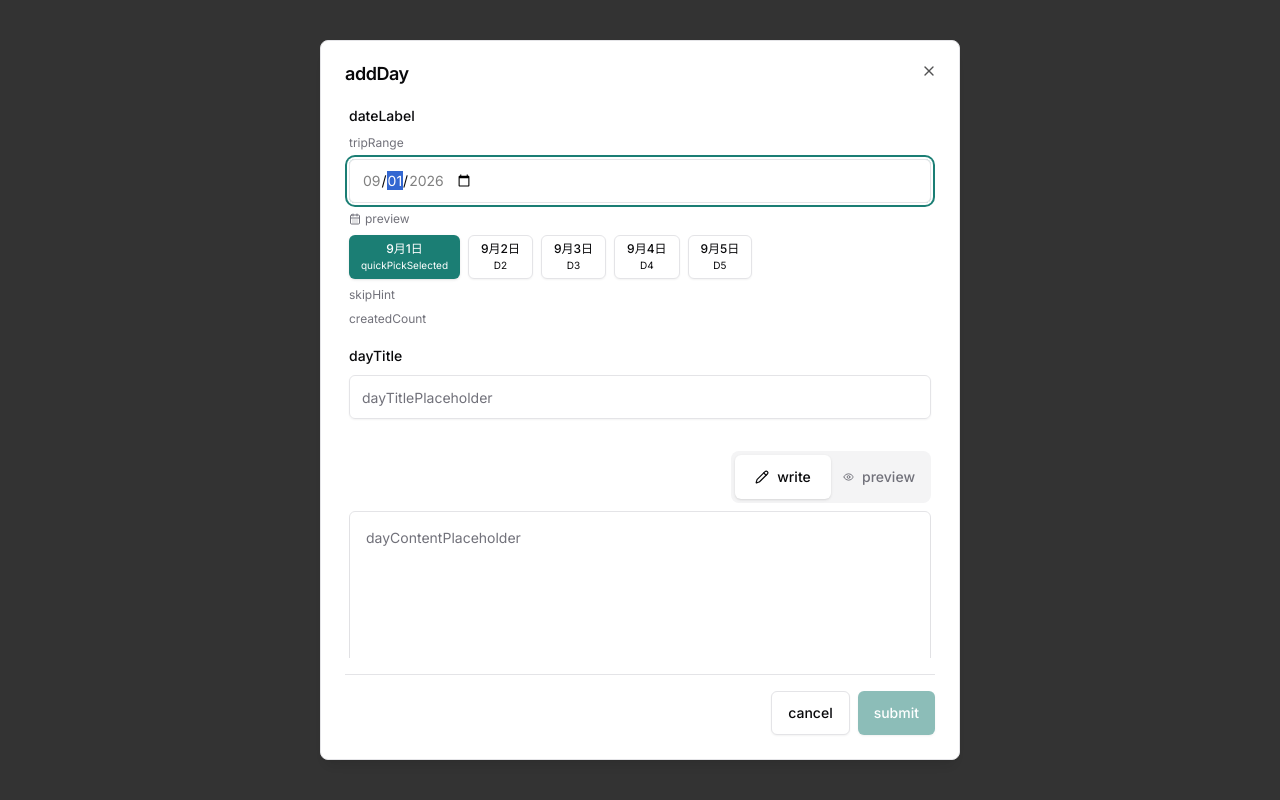
Test: keeps the draft and shows the server error in the date field when the date is taken
Type "Kyoto" into the field labelled "dayTitle" at [640, 397], box top-left (349, 375), bottom-right (931, 419)
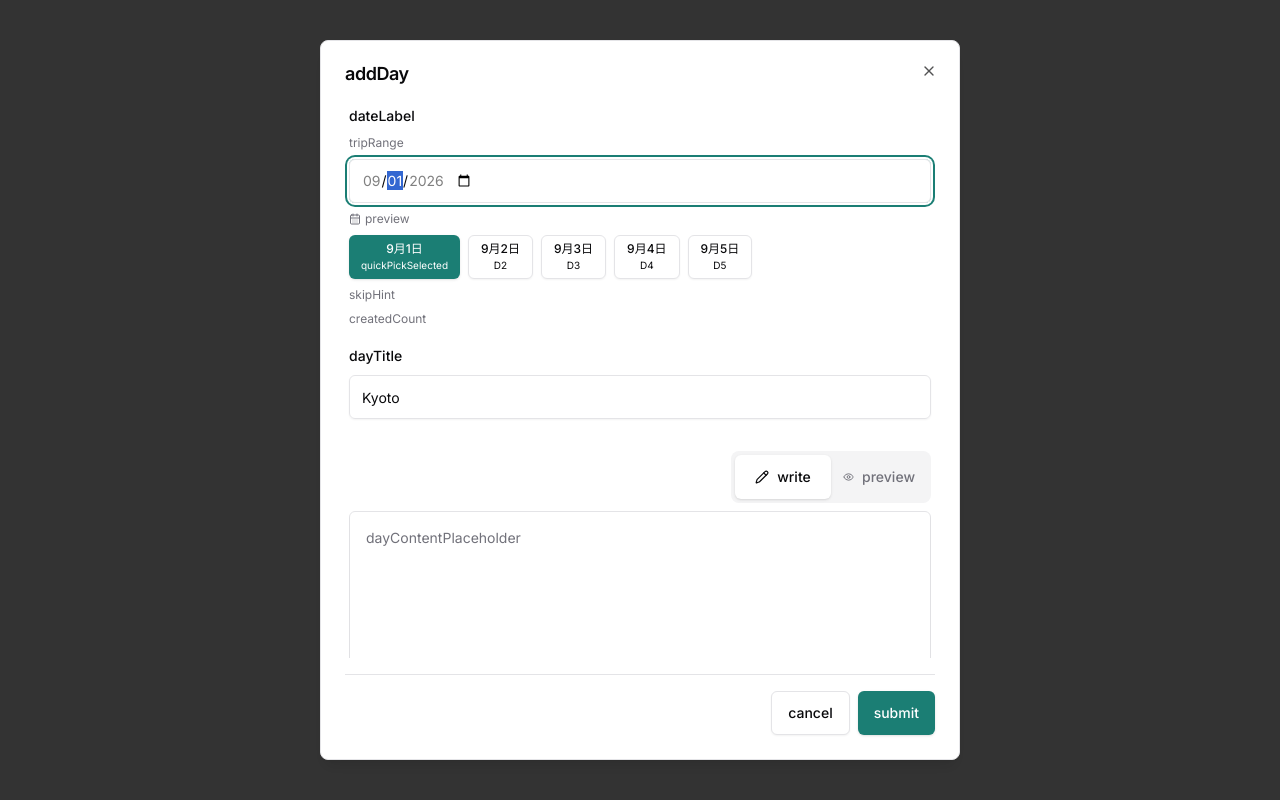
Click the button "submit" at [896, 713], box top-left (858, 691), bottom-right (935, 735)
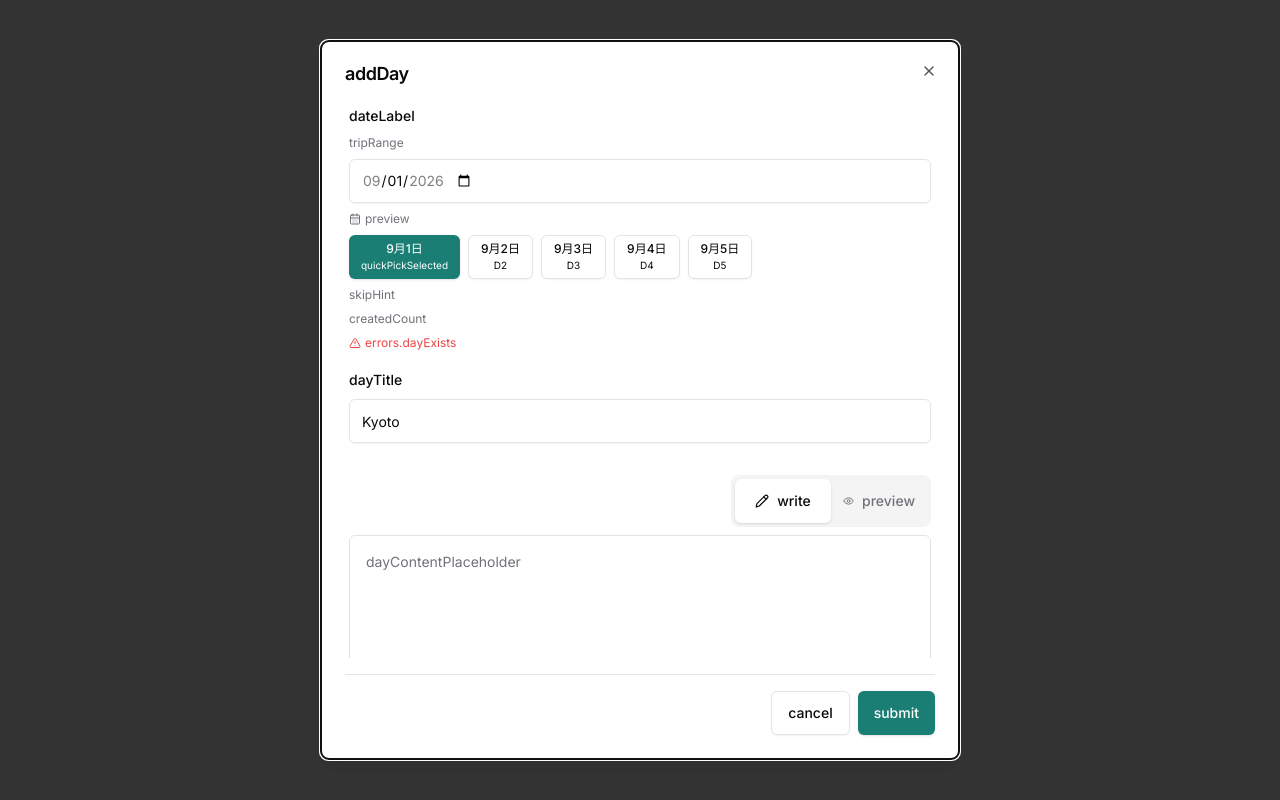
Expected: the message reads "errors.dayExists", top-left (365, 335), bottom-right (456, 350)
改選日期即清掉錯誤，使用者不必重打草稿。
Type "2026-09-04" into the date field labelled "dateLabel" at [640, 181], box top-left (349, 159), bottom-right (931, 203)
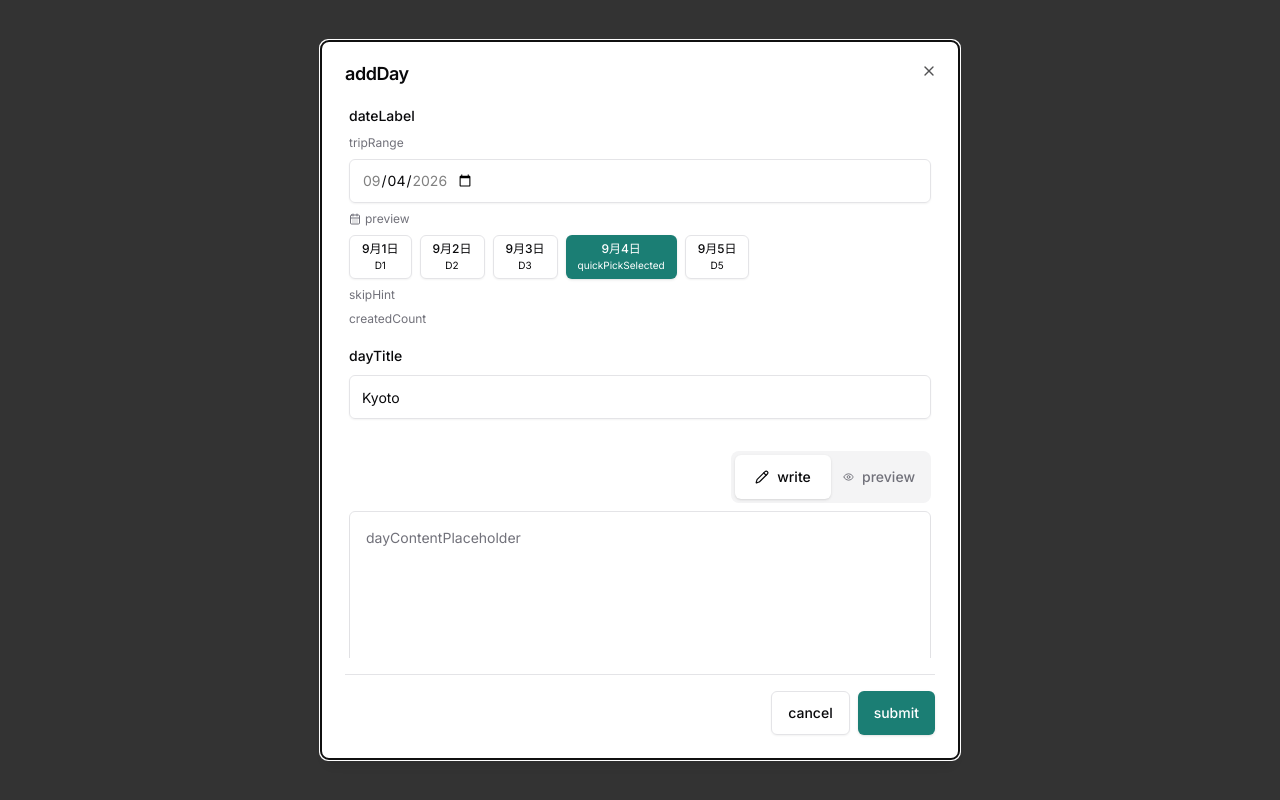
Expected: the message "errors.dayExists" is gone
